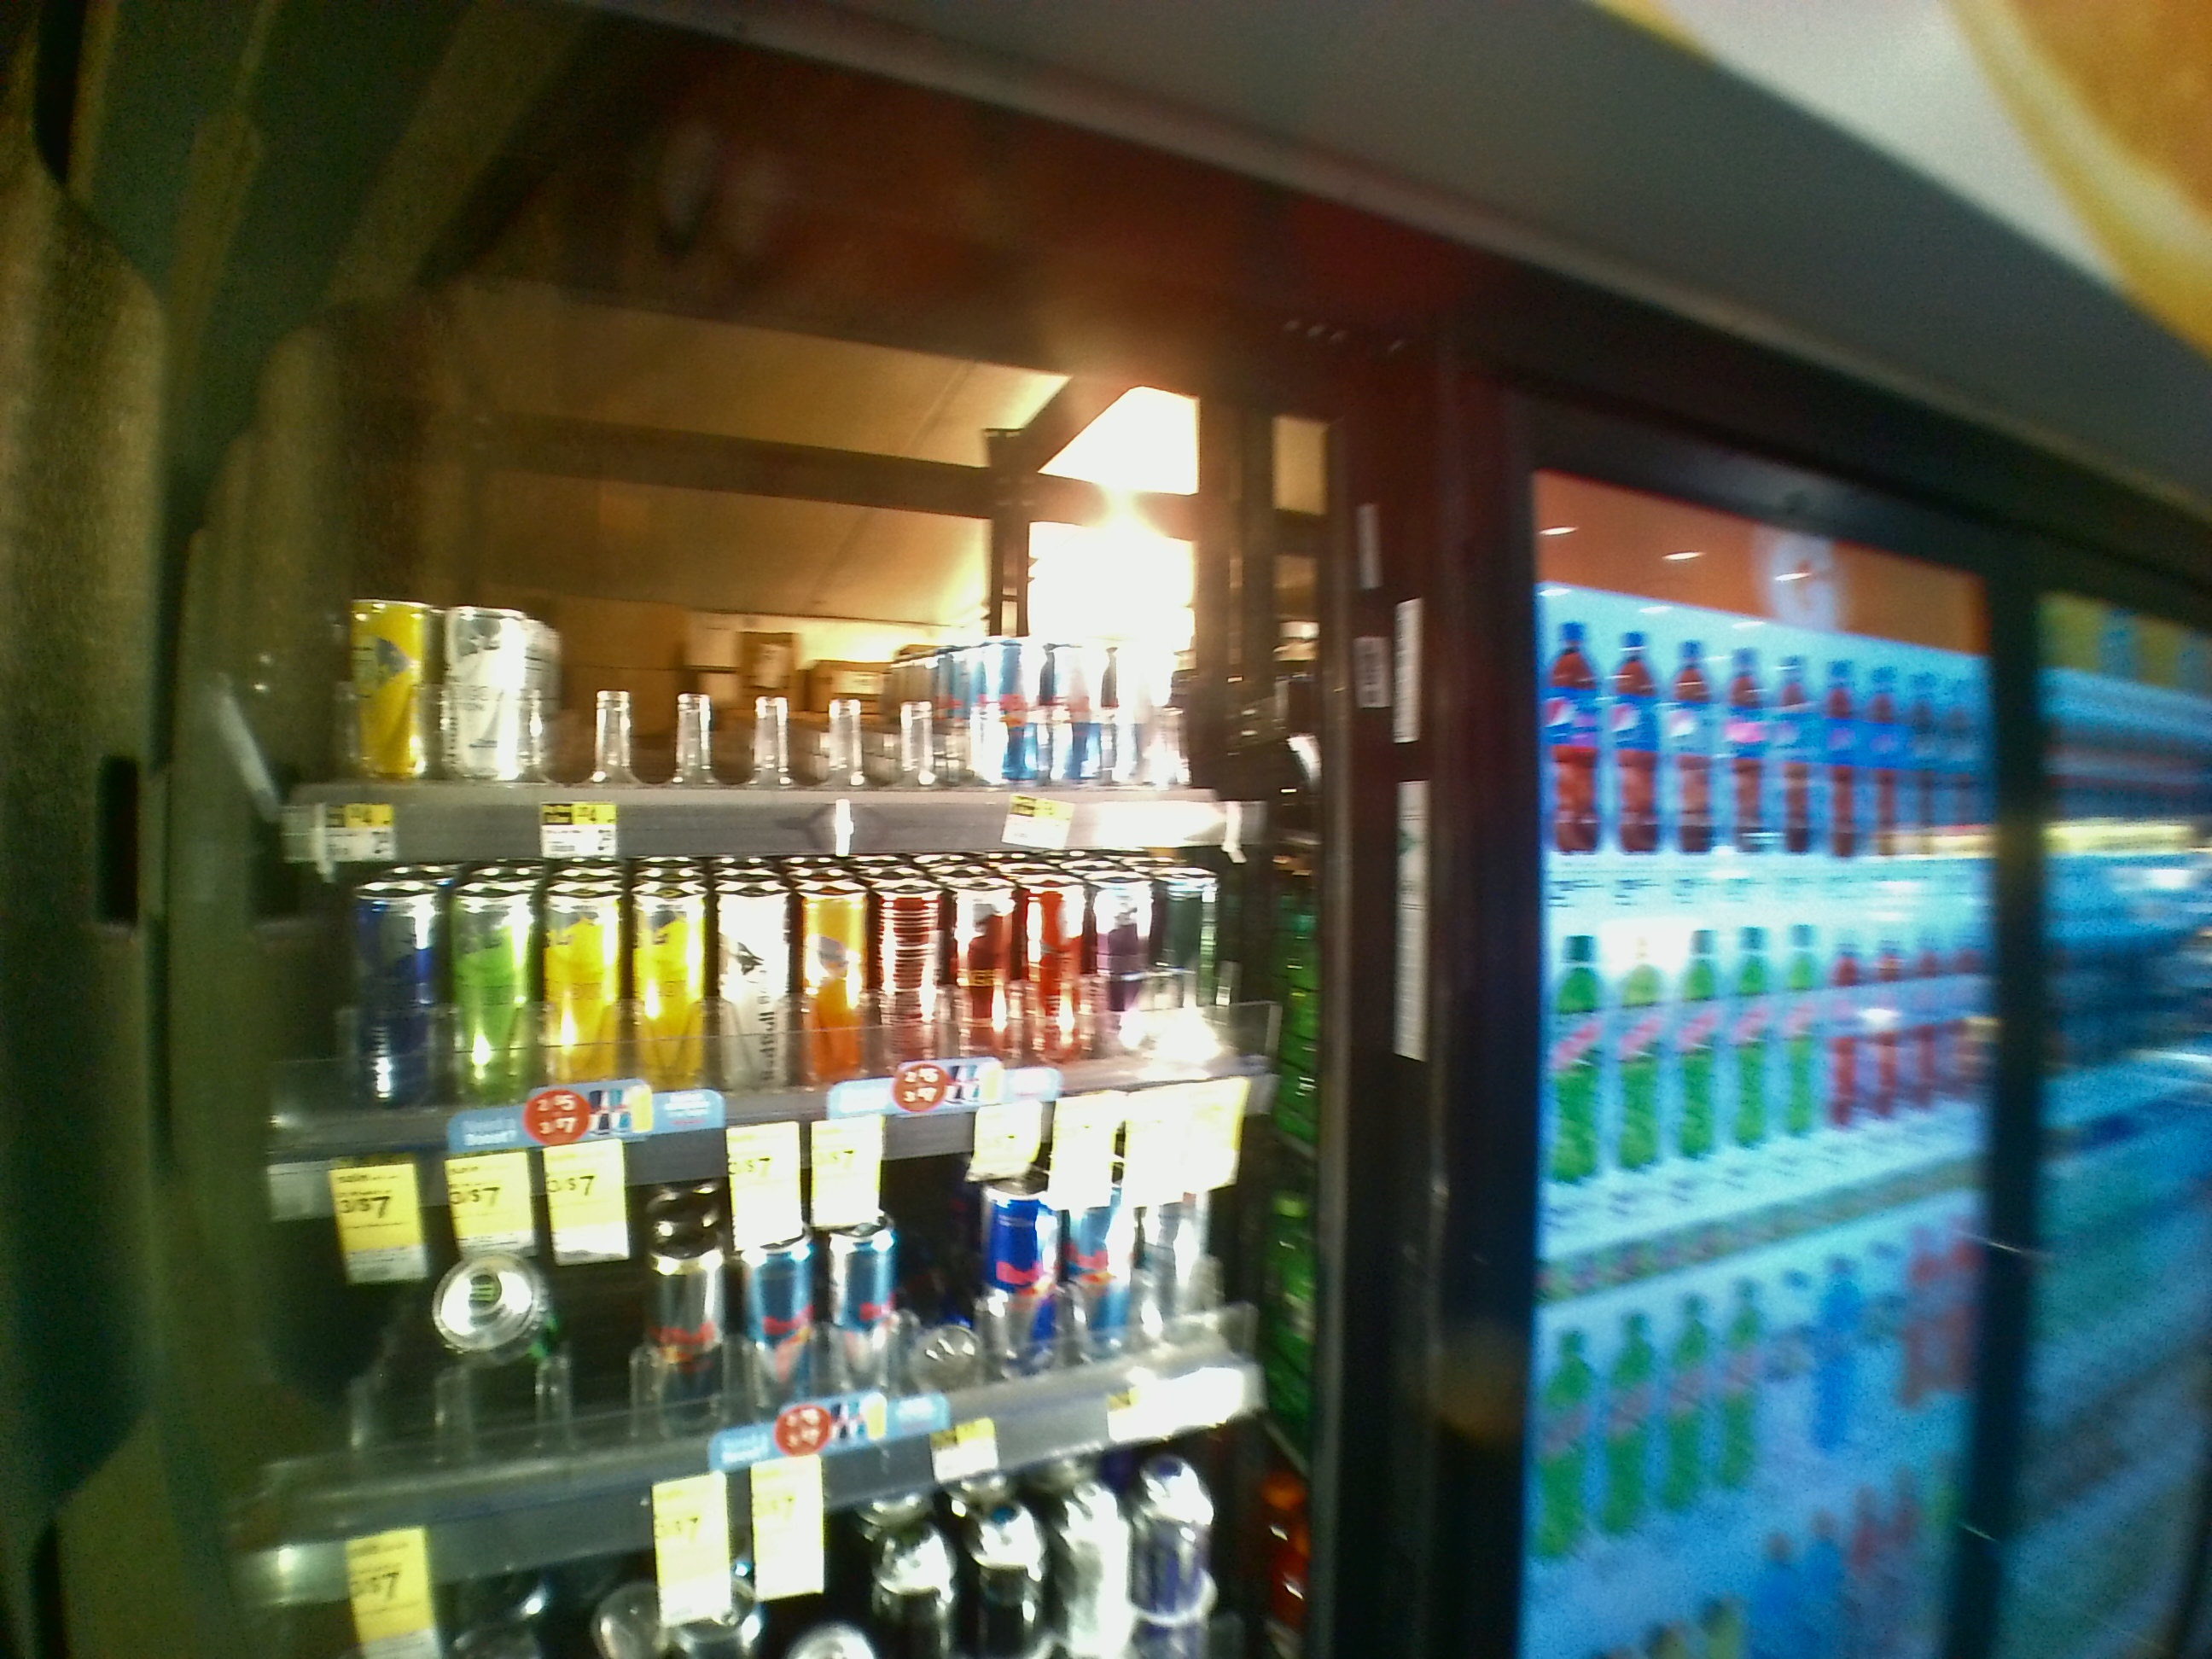shelf: (228, 237, 1339, 852), (211, 849, 1338, 1176)
